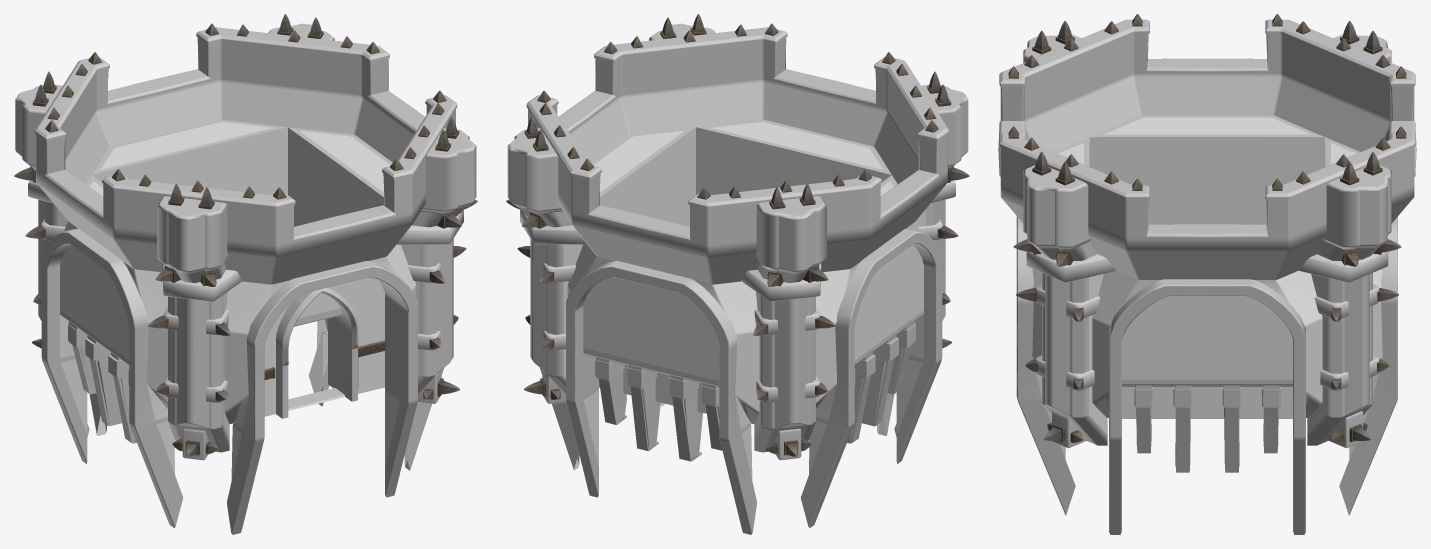
The picture shows the model from 3 angles, left to right: view 1: azimuth 30°, elevation 25°; view 2: azimuth 150°, elevation 25°; view 3: azimuth 270°, elevation 25°; orthographic projection. The views are drawn at different scales.
Visible parts, largest first — view 1: SM_Dowdun_Tower_Turret_02_LOD0; view 2: SM_Dowdun_Tower_Turret_02_LOD0; view 3: SM_Dowdun_Tower_Turret_02_LOD0.
Boxes of the visible parts, x1=… form: SM_Dowdun_Tower_Turret_02_LOD0: x1=14, y1=14, x2=477, y2=534; SM_Dowdun_Tower_Turret_02_LOD0: x1=506, y1=14, x2=969, y2=534; SM_Dowdun_Tower_Turret_02_LOD0: x1=998, y1=14, x2=1416, y2=534.
Bounding box in the file's own units: 17.78 × 17.89 × 17.69.
